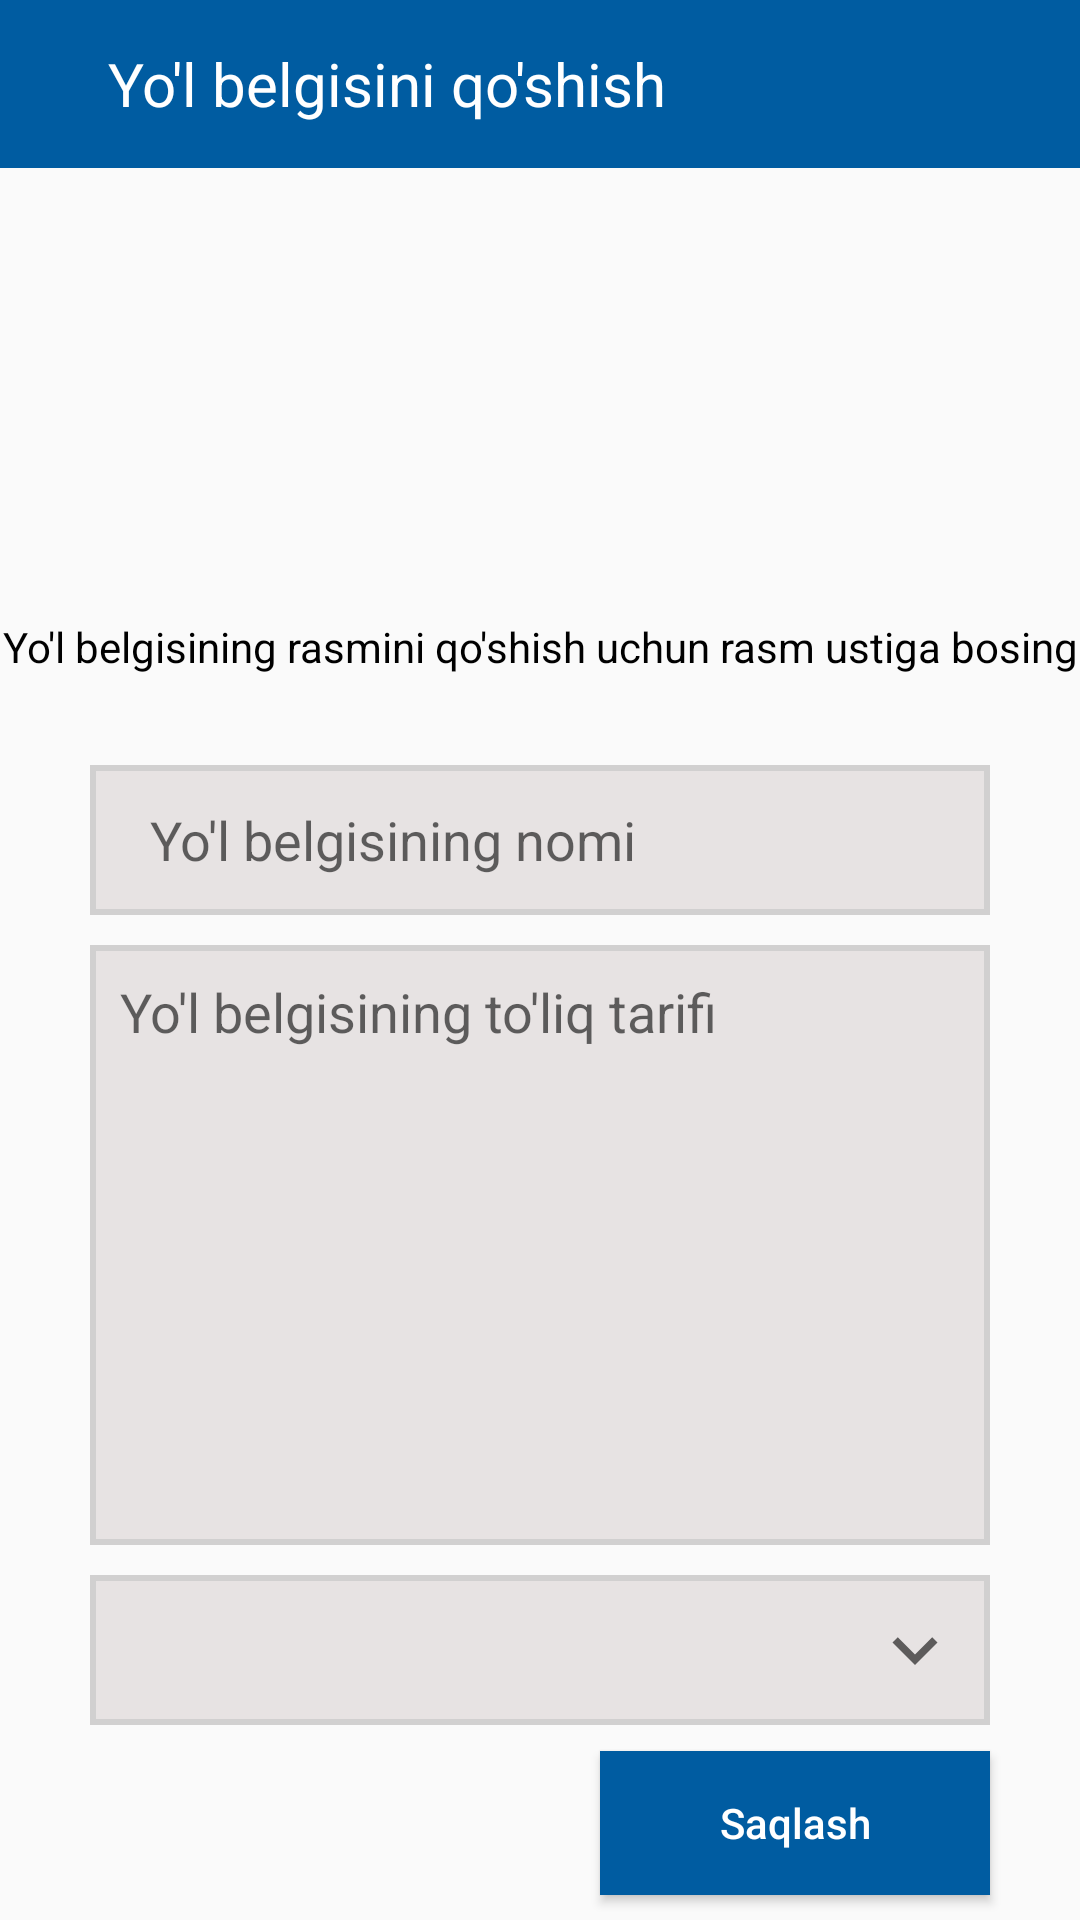

Icons on this 1080x1920 Android screen, each with the point to tap as [x,y]:
expand more: [915,1651]
